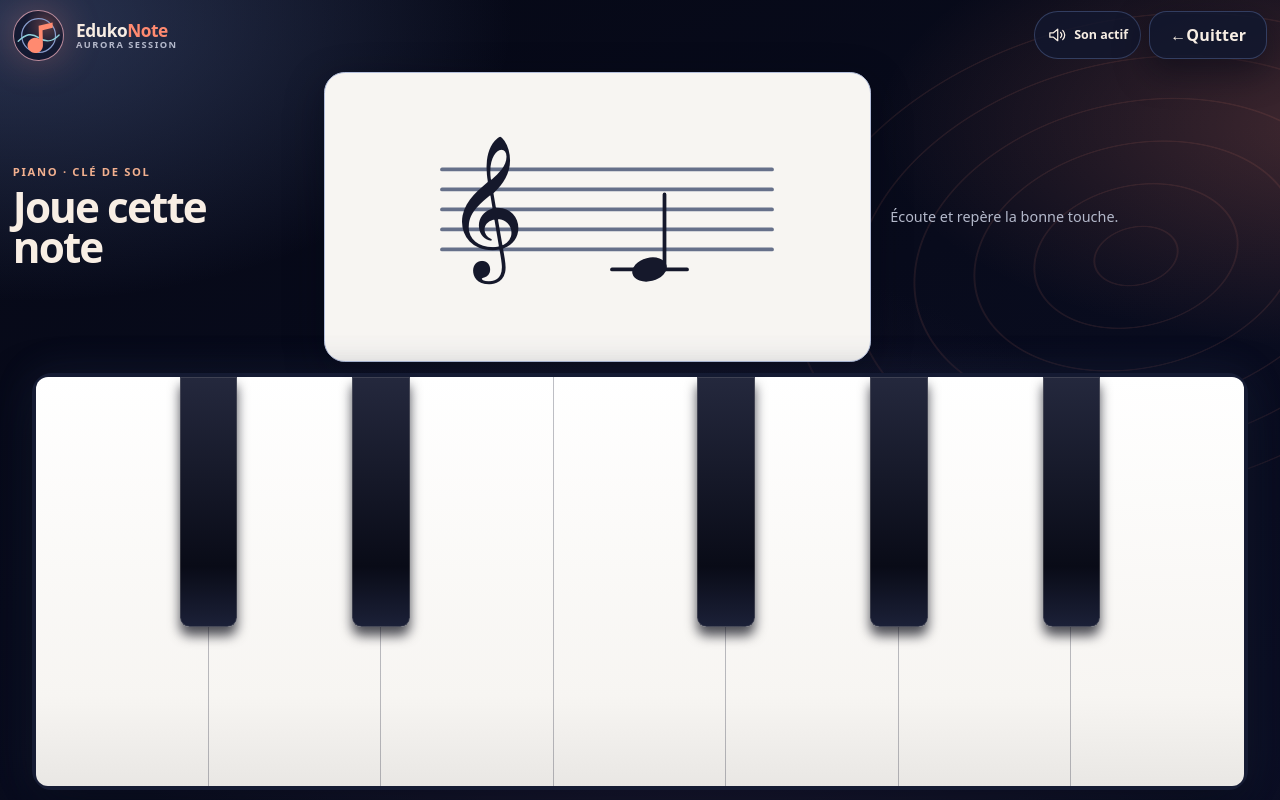
Test case: Piano exercise route › routes to the playable landscape view and survives missing Web Audio
Expected: the heading "Joue cette note" is shown, [13,187,230,268]
Click the button named "Do": x=122, y=582 [36,377,209,786]
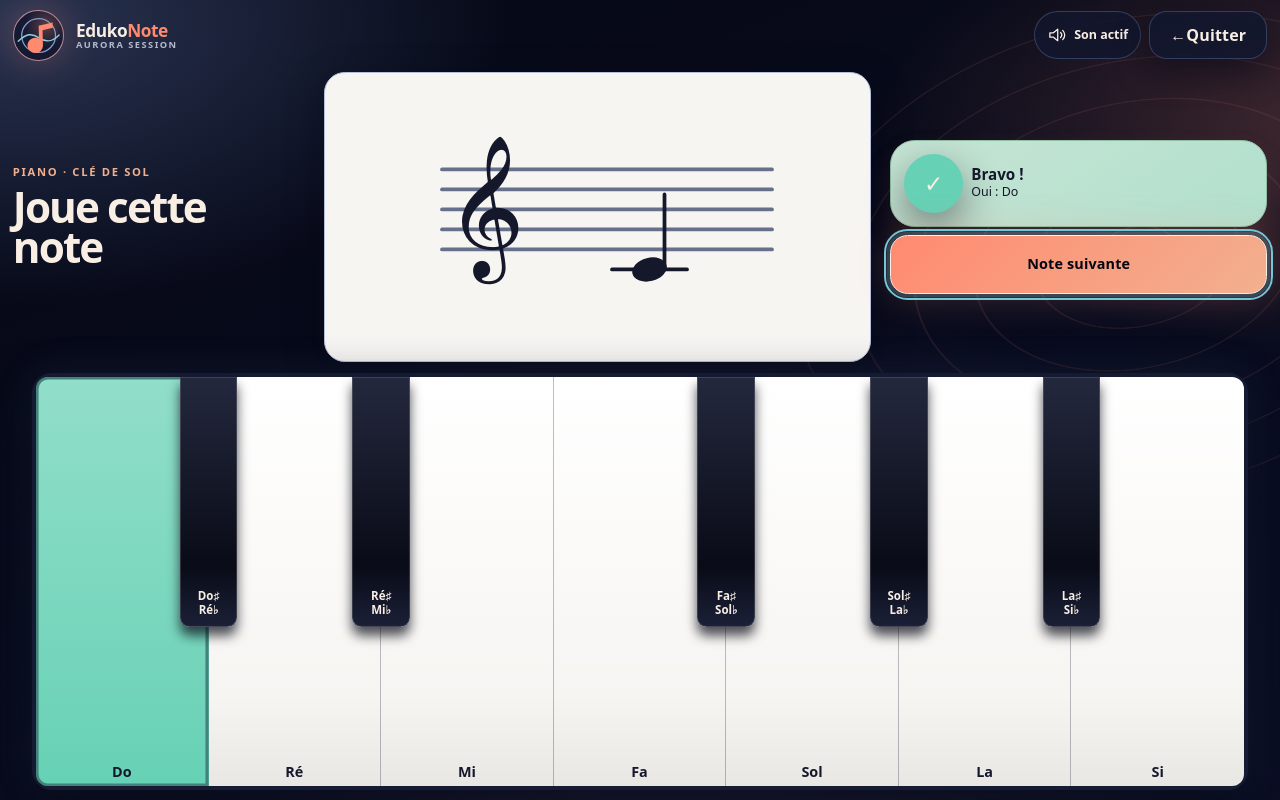
Expected: the message "✓ Bravo ! Oui : Do" is shown, [890,140,1267,227]
